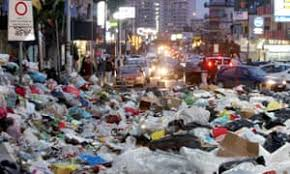garbage: (1, 91, 290, 174), (5, 70, 79, 174)
